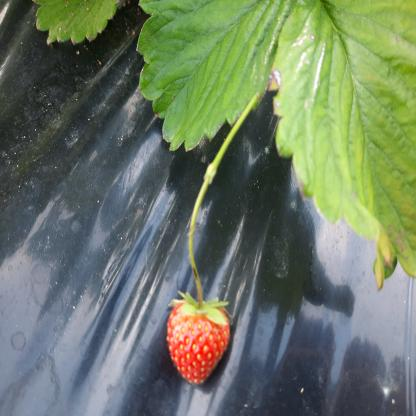ripe: (170, 301, 230, 387)
